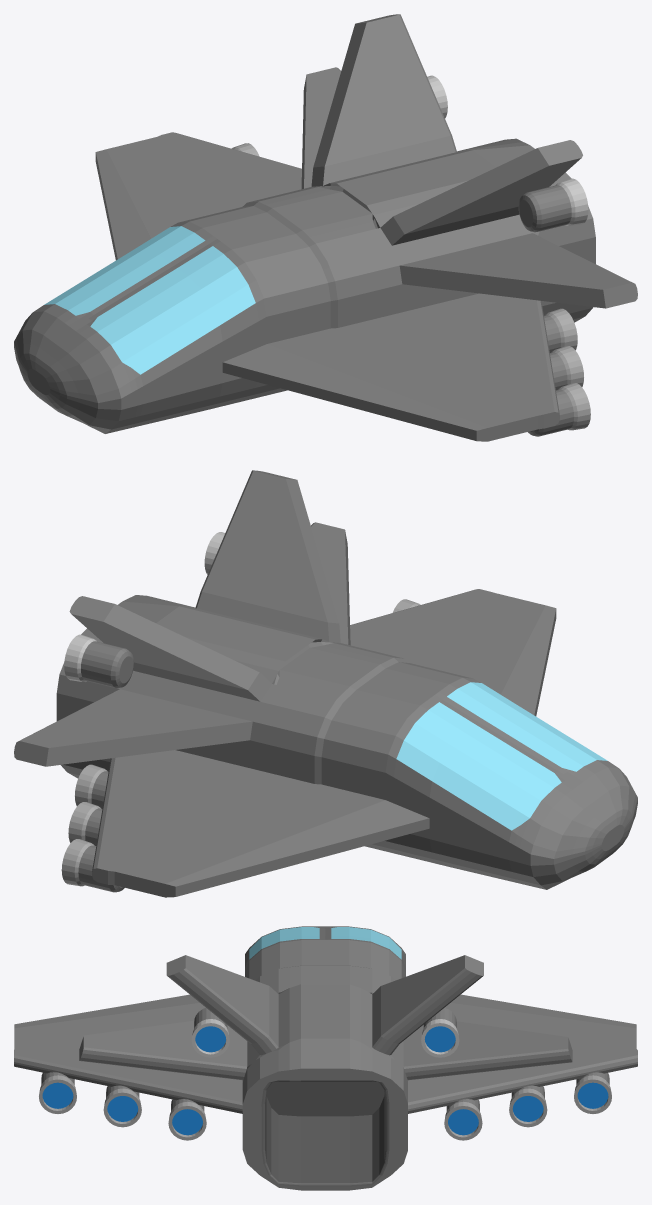
File: NaveGoal.fbx
3 views of the same model, one above another, from view 1: azimuth 30°, elevation 25°; view 2: azimuth 150°, elevation 25°; view 3: azimuth 270°, elevation 25° (orthographic). The views are drawn at different scales.
Visible parts, largest first — view 1: Goal; view 2: Goal; view 3: Goal.
Part boxes in pixels (x1,y1,x2,y2): Goal: (14, 14, 637, 441); Goal: (14, 470, 637, 897); Goal: (14, 926, 637, 1190).
Bounding box in the file's own units: 33145 × 15195 × 43326.
Materials: 1 (1 with a texture image).
